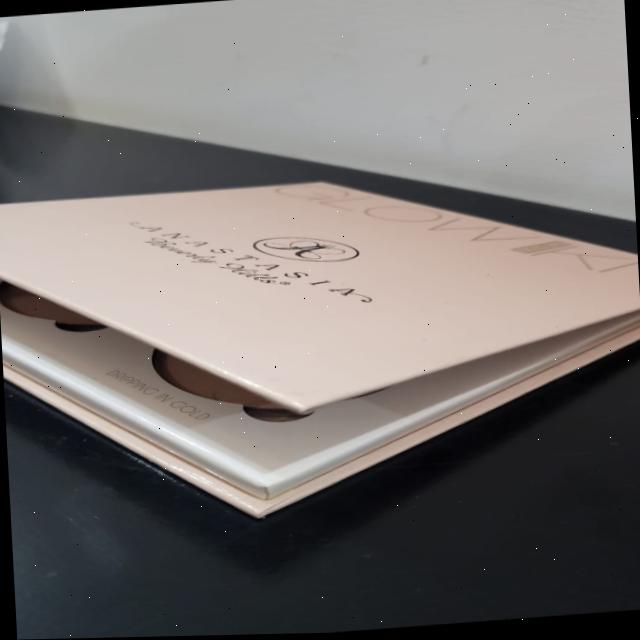eye shade: (0, 135, 640, 541)
